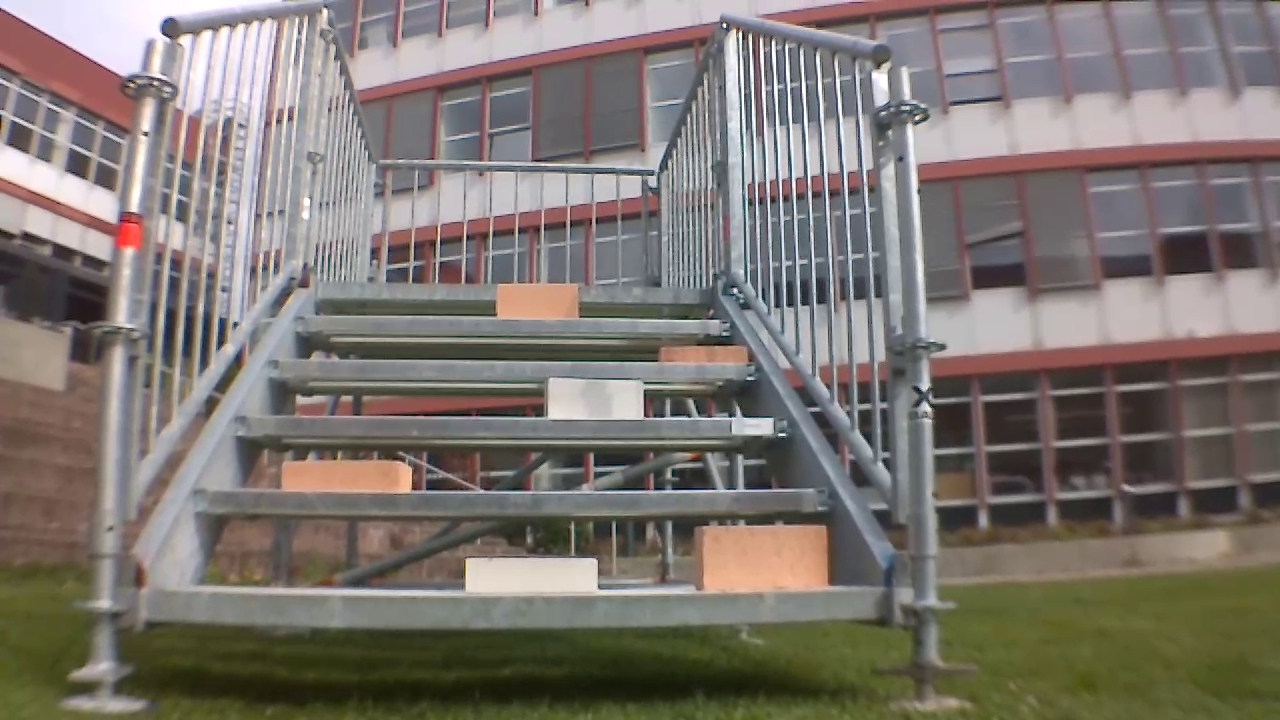brick: (697, 520, 833, 594), (461, 558, 600, 594), (278, 459, 416, 489), (546, 380, 645, 416), (497, 283, 578, 315), (659, 344, 758, 366)
edge: (138, 587, 890, 622), (190, 482, 838, 517), (270, 354, 759, 384), (230, 415, 795, 438), (308, 277, 717, 302), (290, 317, 733, 335)
stairs: (99, 0, 941, 669)
steps: (129, 280, 895, 620)
